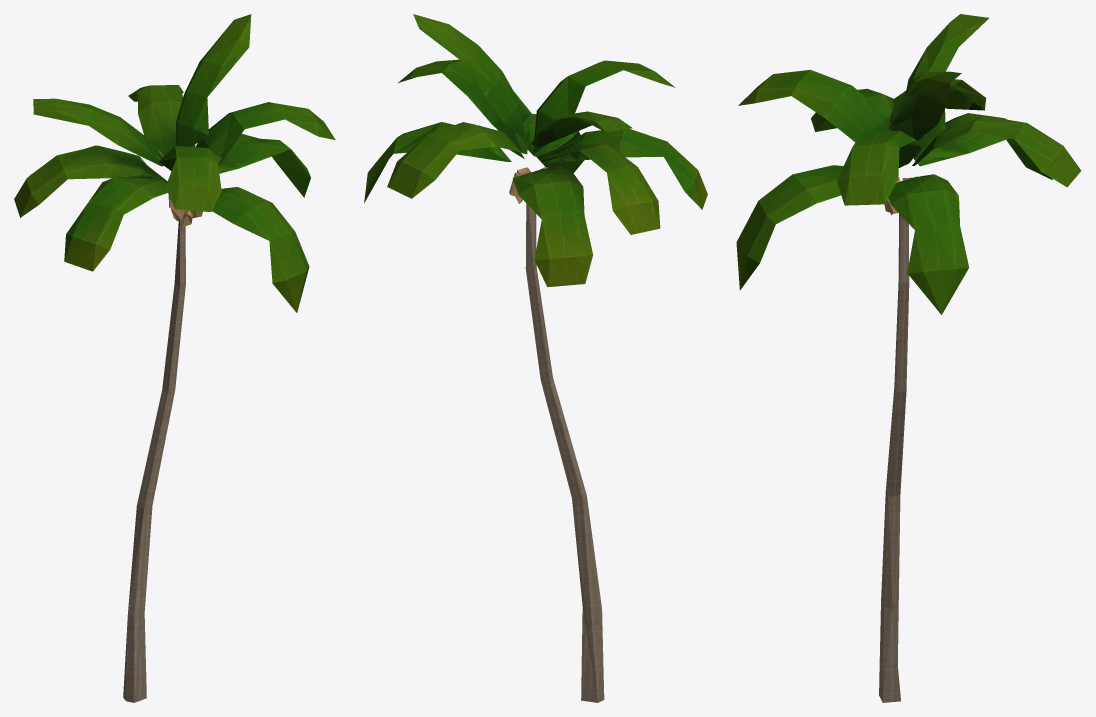
The model's file is coconut-palm.glb.
3 views of the same model, side by side, from view 1: azimuth 30°, elevation 25°; view 2: azimuth 150°, elevation 25°; view 3: azimuth 270°, elevation 25° (orthographic). The views are drawn at different scales.
Visible parts, largest first — view 1: CoconutPalmTree_mesh; view 2: CoconutPalmTree_mesh; view 3: CoconutPalmTree_mesh.
Boxes of the visible parts, x1,y1,x2,y2 form: CoconutPalmTree_mesh: [14, 14, 335, 702]; CoconutPalmTree_mesh: [364, 14, 707, 702]; CoconutPalmTree_mesh: [736, 14, 1081, 702].
Size of the model in its own units: 12.68 by 27.08 by 12.02.
Materials: 1 (1 with a texture image).
